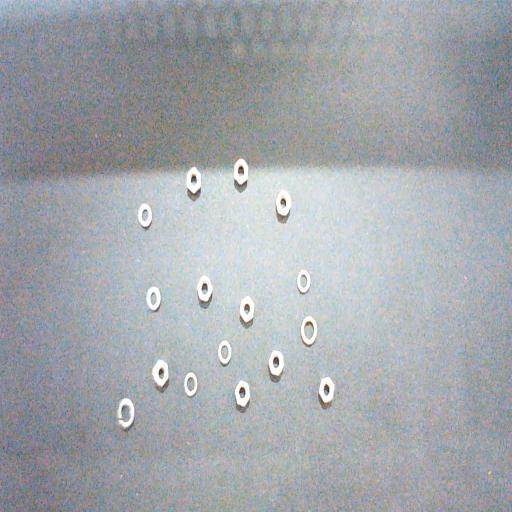nut: (152, 359, 169, 388), (318, 377, 335, 405), (186, 166, 202, 195), (239, 296, 255, 325), (268, 349, 284, 378), (275, 190, 292, 217), (197, 275, 213, 303), (234, 380, 250, 408), (234, 158, 248, 187)
washer: (300, 316, 318, 347), (117, 398, 135, 429), (146, 286, 161, 312), (218, 340, 232, 366), (297, 269, 311, 294), (184, 372, 198, 397), (138, 203, 152, 227)
